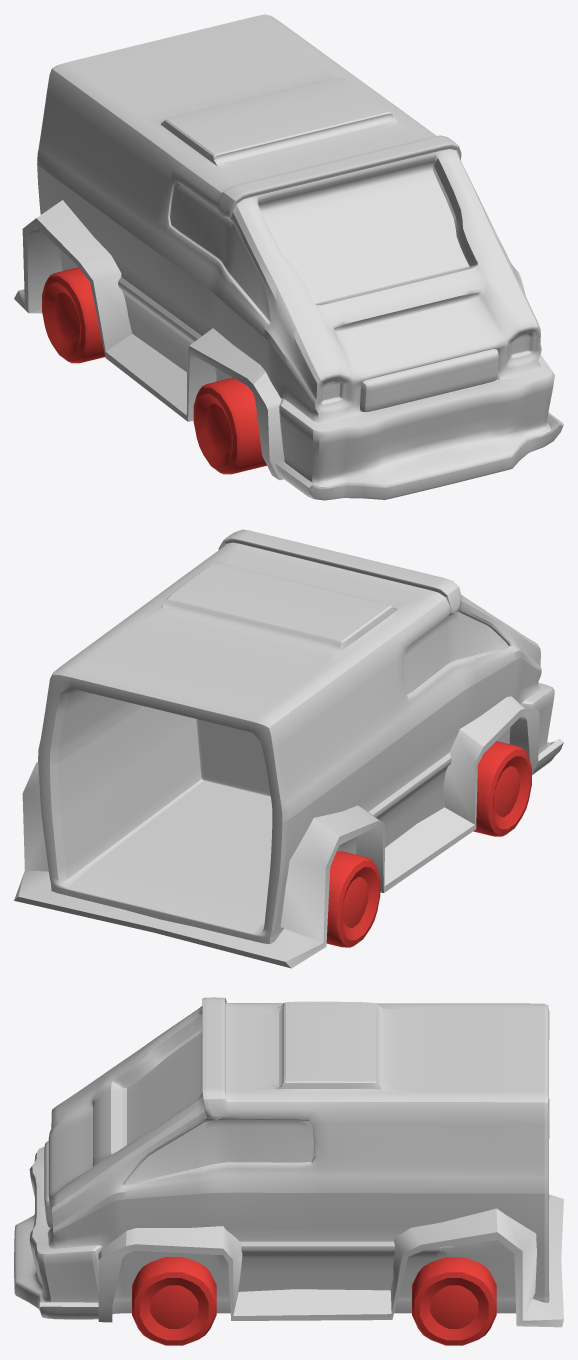
Rendered from MERCAAAAAAA.fbx.
3 views of the same model, one above another, from view 1: azimuth 30°, elevation 25°; view 2: azimuth 150°, elevation 25°; view 3: azimuth 270°, elevation 25° (orthographic). The views are drawn at different scales.
Visible parts, largest first — view 1: Cube.006, Cube.001, Cube.003, Cube.004; view 2: Cube.006, Cube.001, Cube.003, Cube.004; view 3: Cube.006, Cube.001, Cube.002, Cube.005.
Part boxes in pixels (x1=…): Cube.006: x1=37, y1=14, x2=563, y2=500; Cube.001: x1=14, y1=200, x2=284, y2=480; Cube.003: x1=193, y1=378, x2=266, y2=474; Cube.004: x1=42, y1=267, x2=105, y2=363; Cube.006: x1=38, y1=529, x2=563, y2=944; Cube.001: x1=14, y1=696, x2=539, y2=968; Cube.003: x1=473, y1=741, x2=531, y2=836; Cube.004: x1=326, y1=851, x2=380, y2=947; Cube.006: x1=14, y1=997, x2=549, y2=1319; Cube.001: x1=98, y1=1194, x2=563, y2=1327; Cube.002: x1=132, y1=1257, x2=216, y2=1345; Cube.005: x1=412, y1=1257, x2=496, y2=1345.
Bounding box in the file's own units: 183 × 149 × 311.
